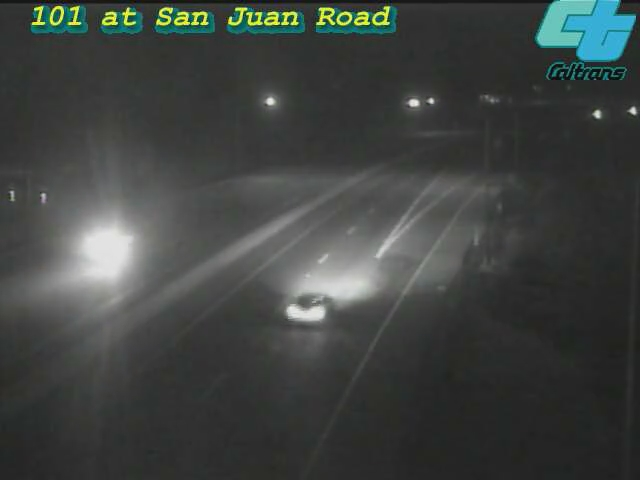vehicle: (58, 210, 138, 290), (270, 265, 350, 345), (571, 89, 621, 139), (605, 86, 640, 136)
